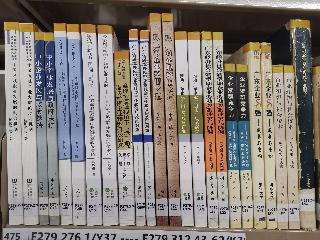book-spine: (290, 19, 316, 232), (92, 24, 118, 227), (1, 21, 25, 224), (172, 30, 195, 227), (160, 13, 181, 226), (80, 25, 102, 225), (18, 22, 39, 224), (112, 51, 136, 226), (53, 22, 73, 226), (150, 13, 169, 226), (66, 23, 86, 225), (137, 30, 157, 226), (212, 30, 231, 229), (127, 30, 146, 227), (188, 32, 207, 227), (248, 41, 267, 230), (258, 42, 277, 229), (281, 65, 302, 230), (201, 32, 218, 227), (43, 32, 60, 226), (223, 61, 242, 228), (236, 65, 253, 228), (35, 32, 49, 225), (272, 64, 288, 230)
